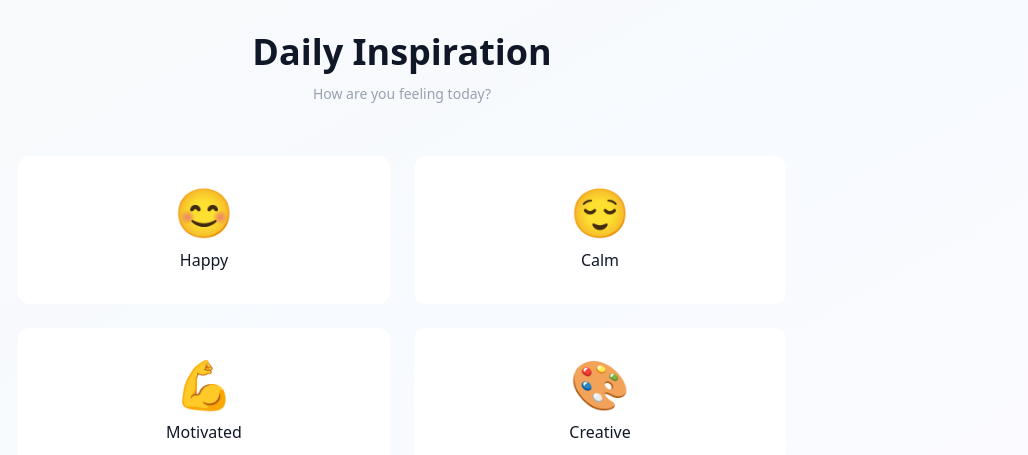
Test: App - Error Handling Integration › should show error toast when content generation fails
What coordinates should you click on to do the following:
click the button "😊 Happy"
I would click on:
 (204, 230)
Its box is [18,156,390,304].
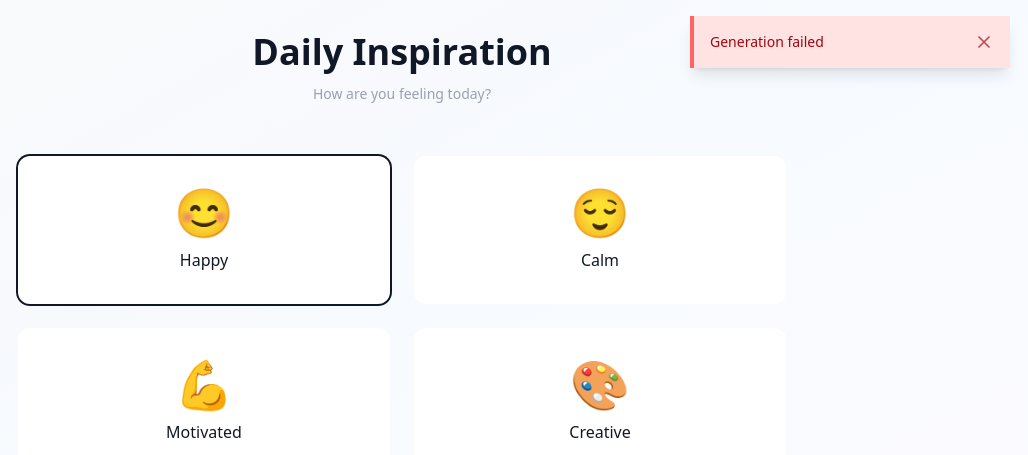
Now the text "Generation failed" is shown, box [710,32,824,51]
